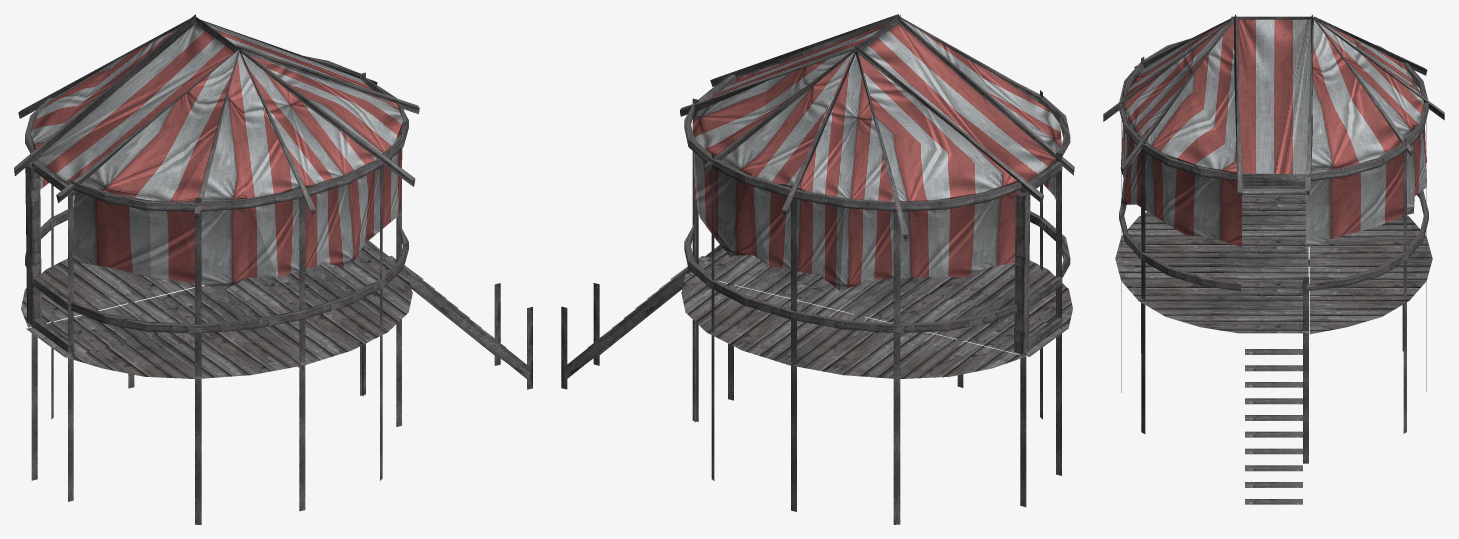
The model's file is v3_balcony2_LOD.dae.
The picture shows the model from 3 angles, left to right: view 1: azimuth 30°, elevation 25°; view 2: azimuth 150°, elevation 25°; view 3: azimuth 270°, elevation 25°; orthographic projection. The views are drawn at different scales.
Parts seen in each view (by area): view 1: cloth_001_c, woodPlanks; view 2: cloth_001_c, woodPlanks; view 3: cloth_001_c, woodPlanks.
Boxes of the visible parts, left/top/right/bottom form: cloth_001_c: left=30, top=21, right=403, bottom=289; woodPlanks: left=14, top=14, right=532, bottom=524; cloth_001_c: left=692, top=19, right=1061, bottom=290; woodPlanks: left=561, top=14, right=1074, bottom=524; cloth_001_c: left=1121, top=19, right=1426, bottom=247; woodPlanks: left=1103, top=14, right=1444, bottom=504.
Bounding box in the file's own units: 13.94 × 11.67 × 9.44.
